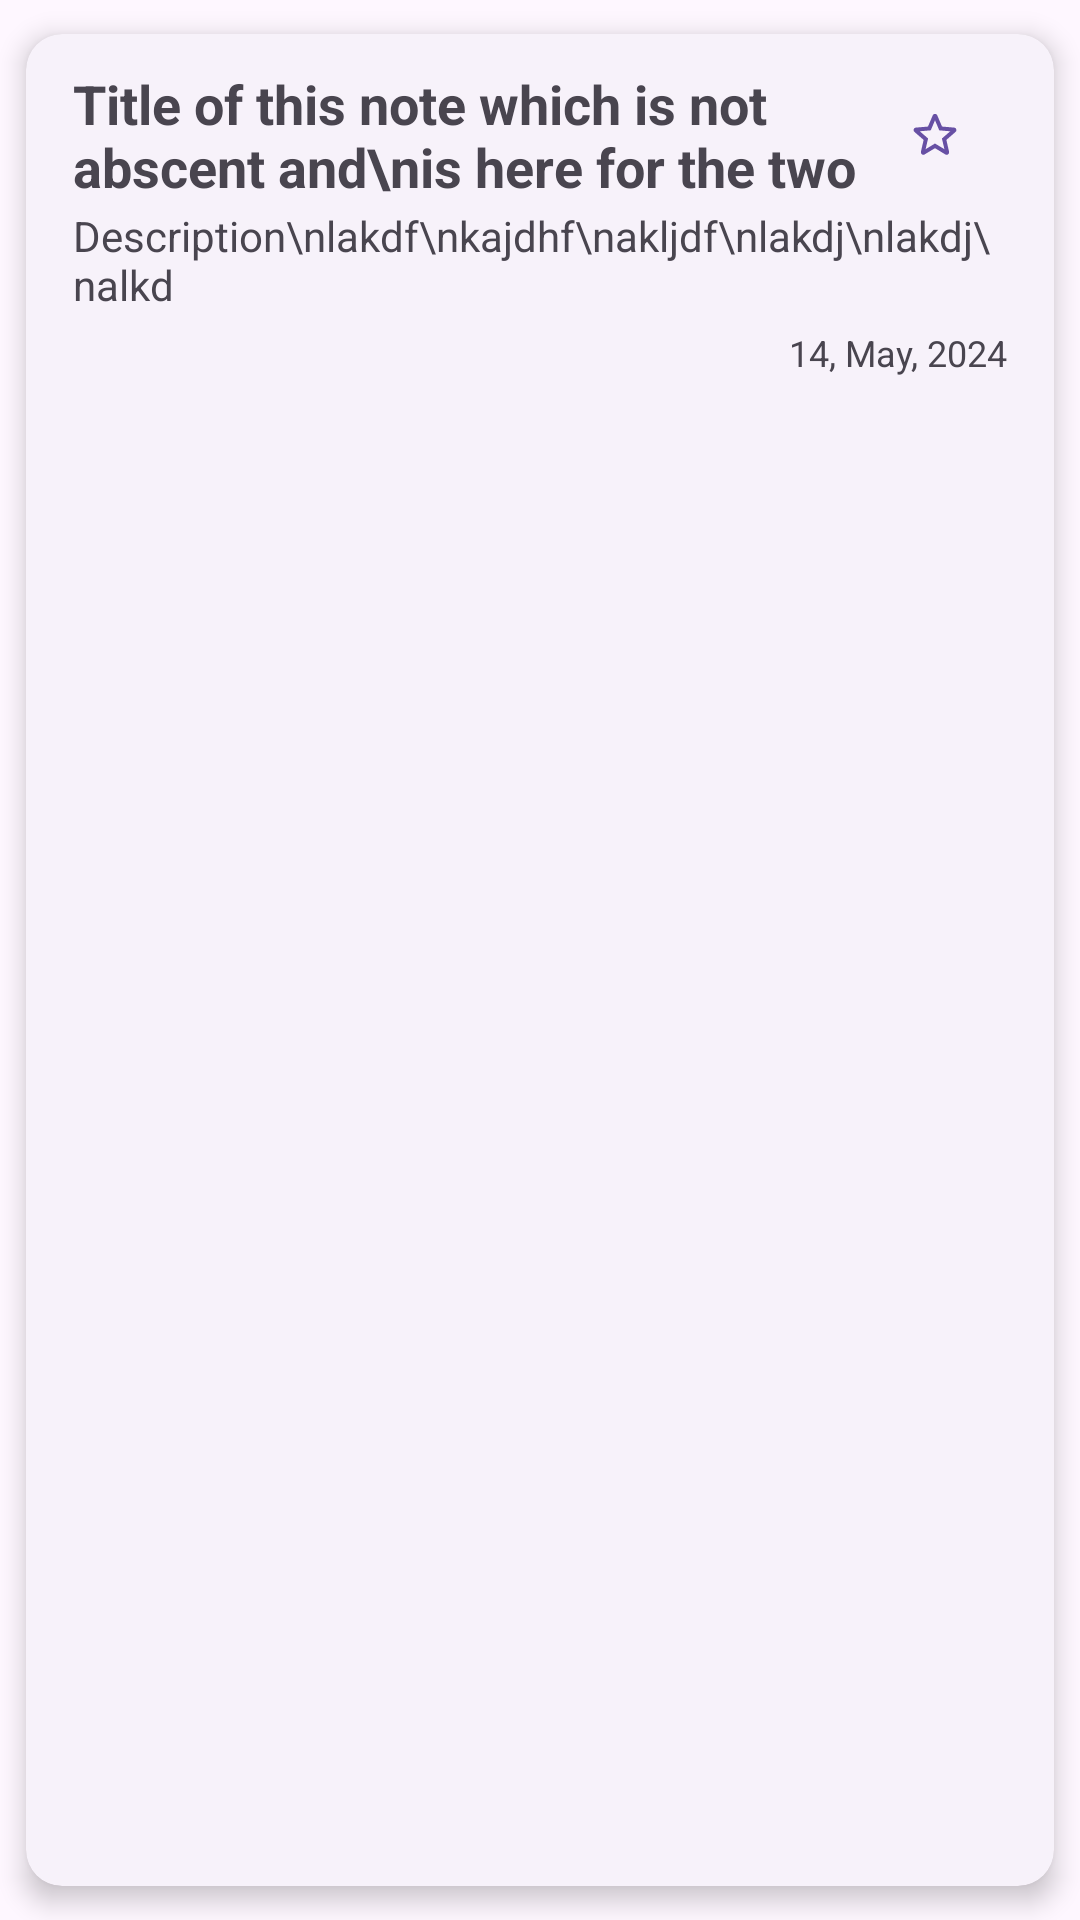

Point at icon controls on the screen. Image size 1080 x 1920, points as point (x, y).
star: point (935, 134)
